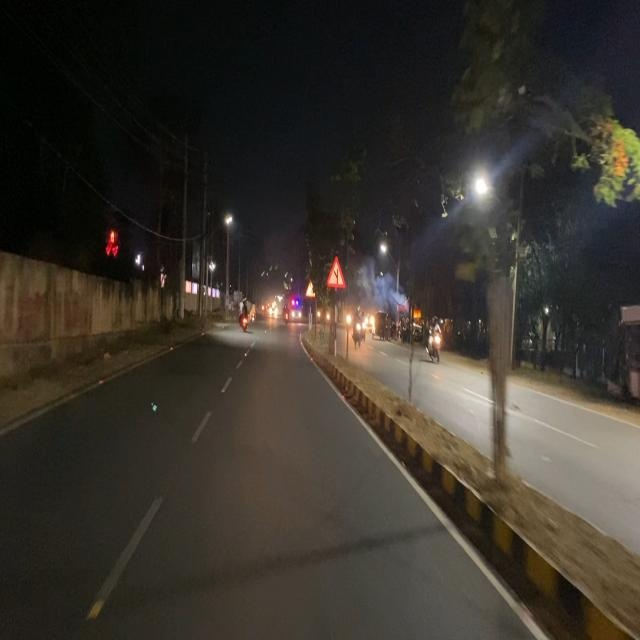bien_nguy_hiem: (326, 254, 346, 290)
